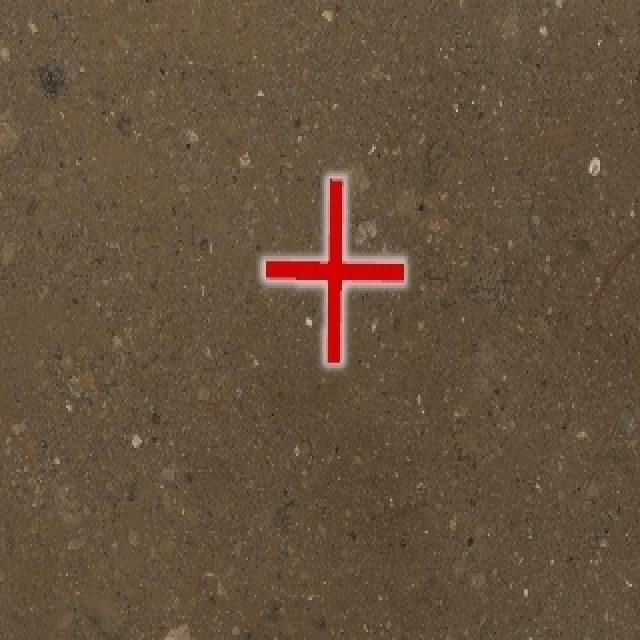x_marker: (263, 178, 403, 362)
